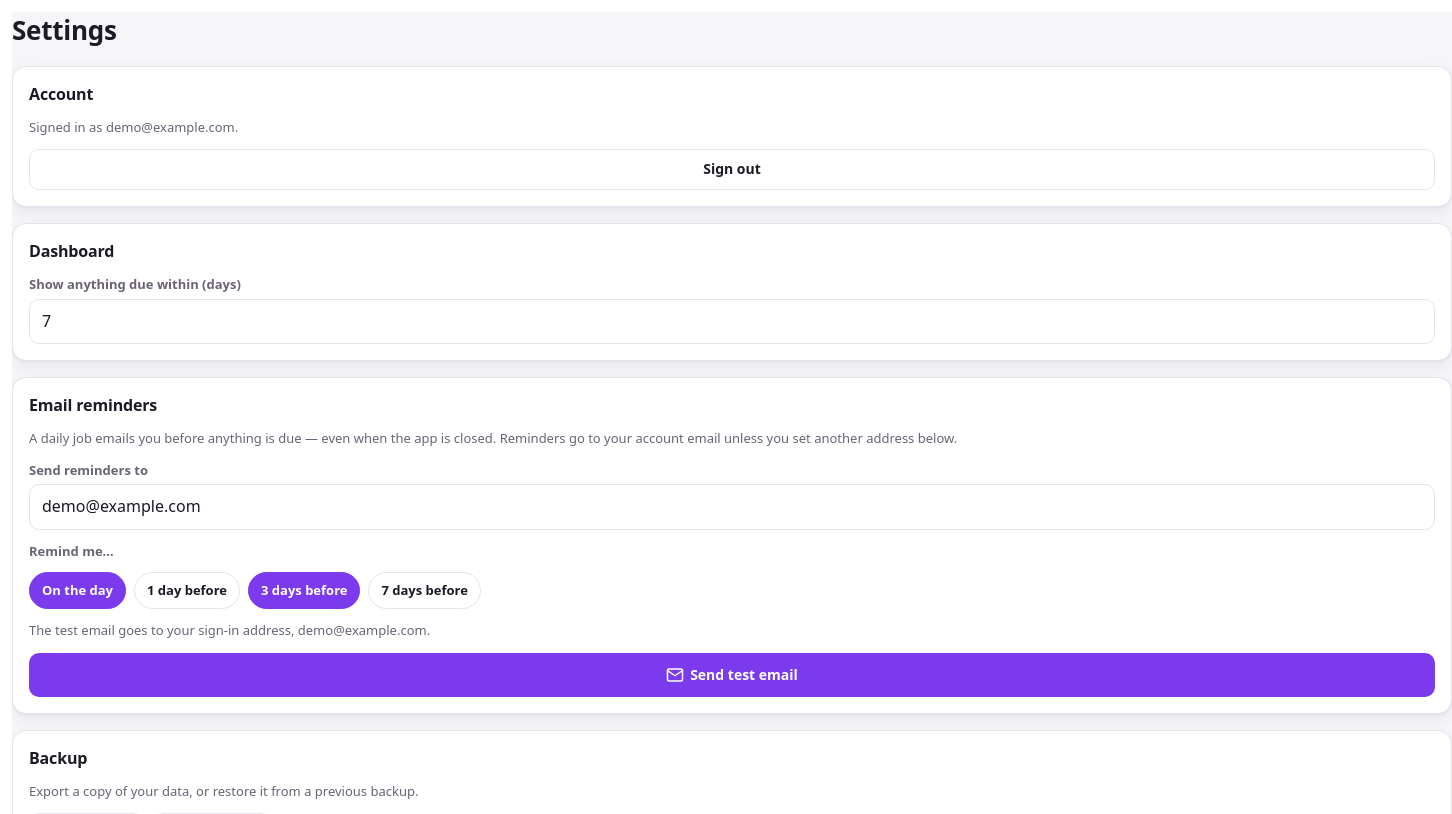
it: SettingsView due-within days › restores  on blur without saving it
Clear the number field labelled "Show anything due within (days)" at (732, 321), box [29,299,1435,344]
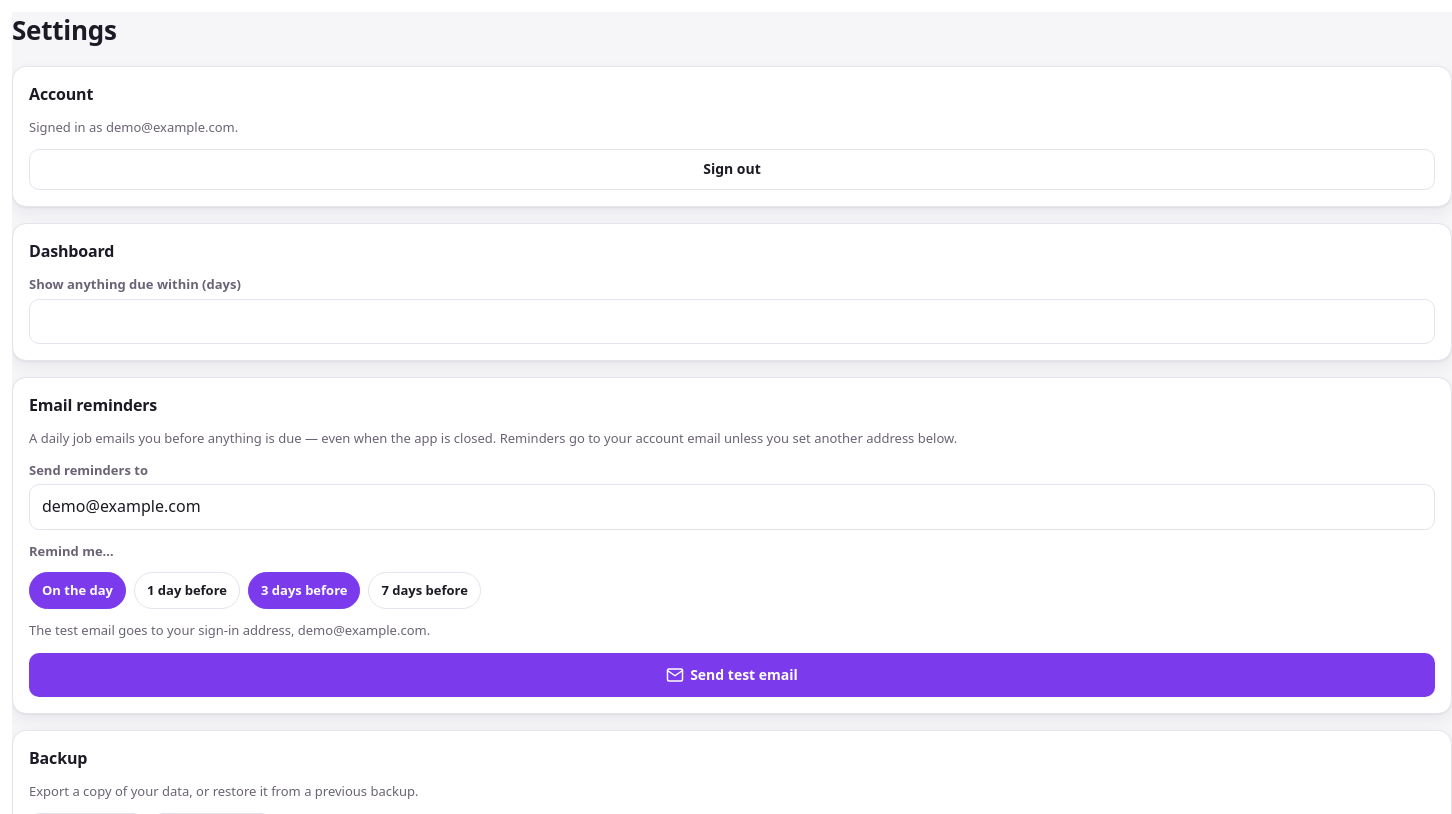
Leave the number field labelled "Show anything due within (days)", box [29,299,1435,344]
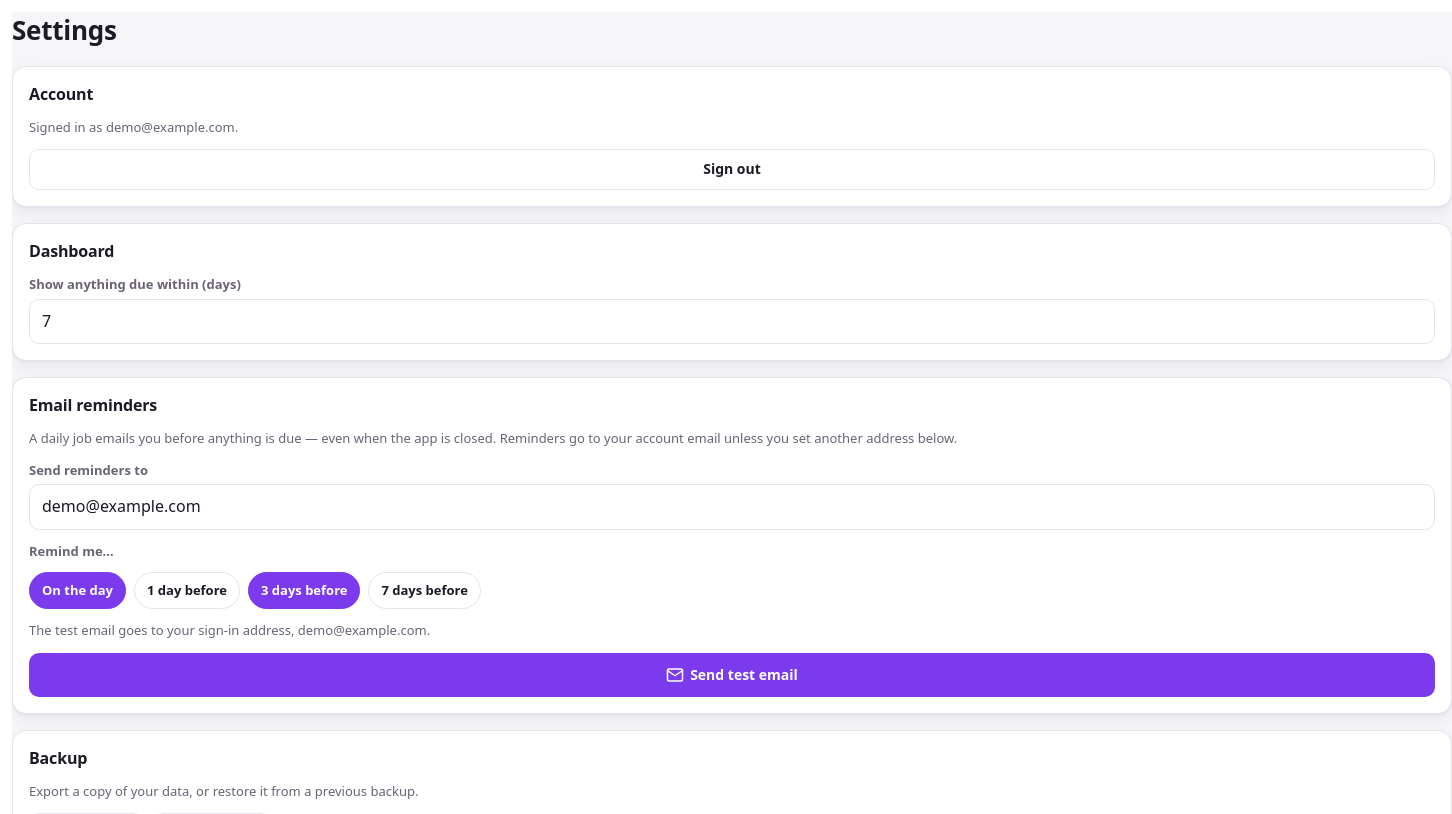
Result: the number field labelled "Show anything due within (days)" holds "7" at [29,299,1435,344]
